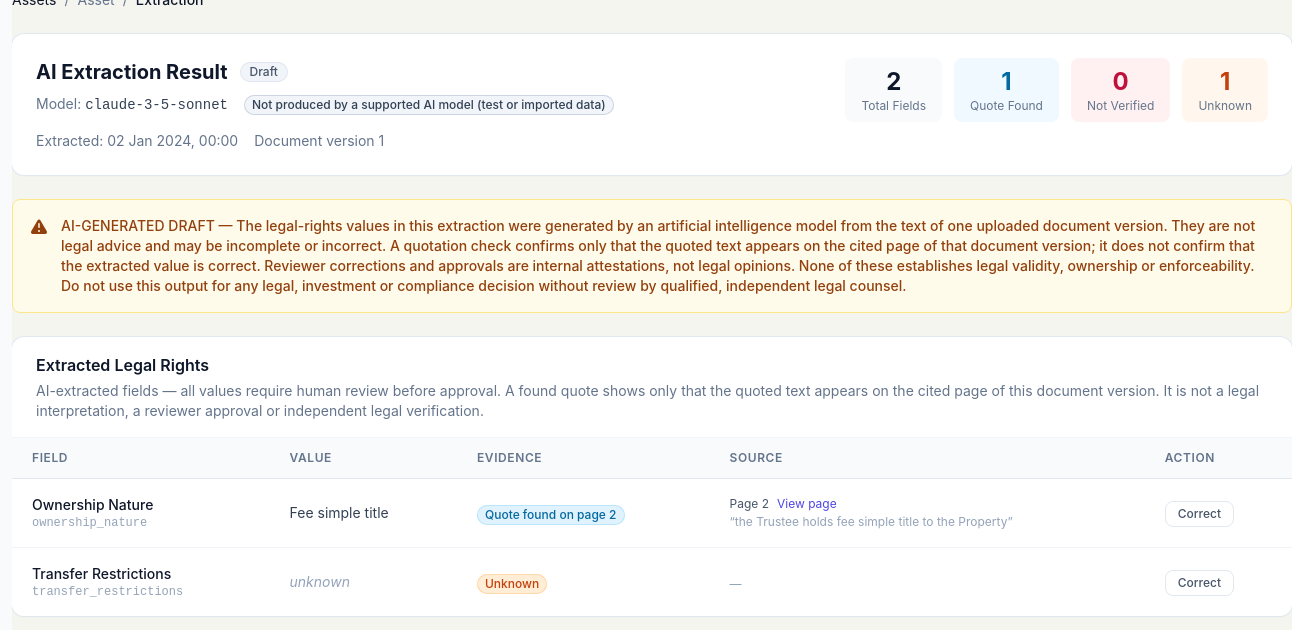
Test case: Mandatory precondition: the state actually shown (issue A) › keeps the claim as shown when the form was opened, even if the page reloads meanwhile
The image size is (1292, 630).
Click the button "Correct" in the row of "Ownership Nature" at (1199, 514), box top-left (1165, 500), bottom-right (1234, 526)
(page scrolled)
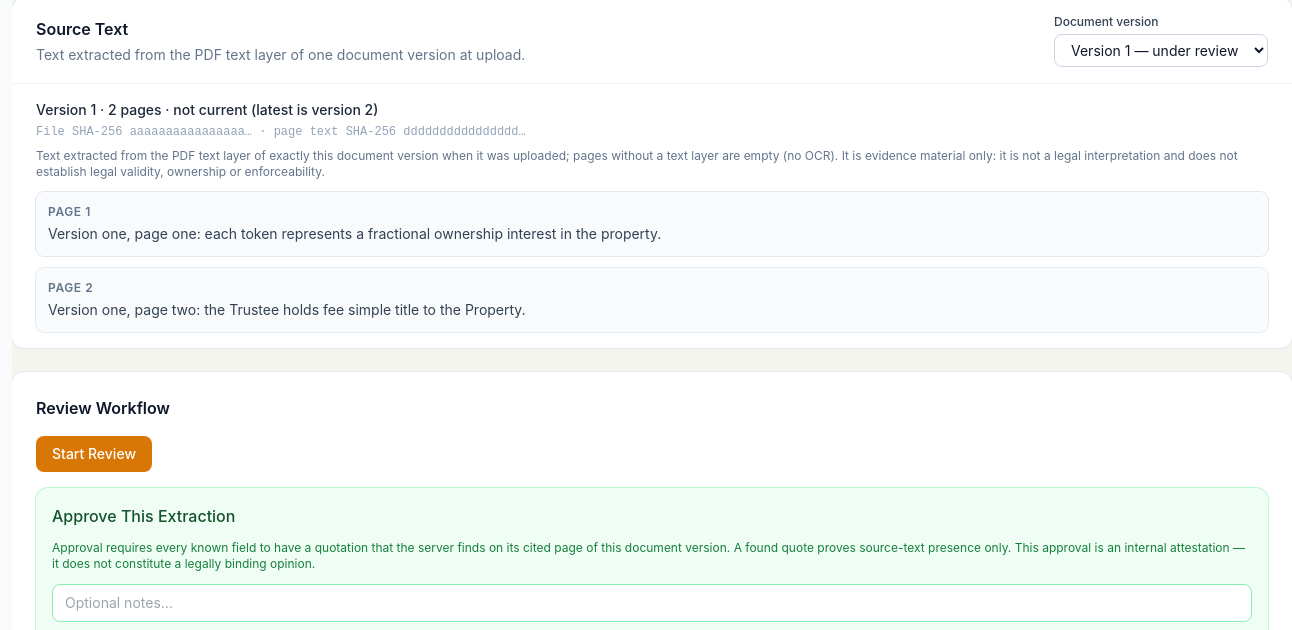
Click the button "Start Review" at (94, 454), box top-left (36, 436), bottom-right (152, 472)
(page scrolled)
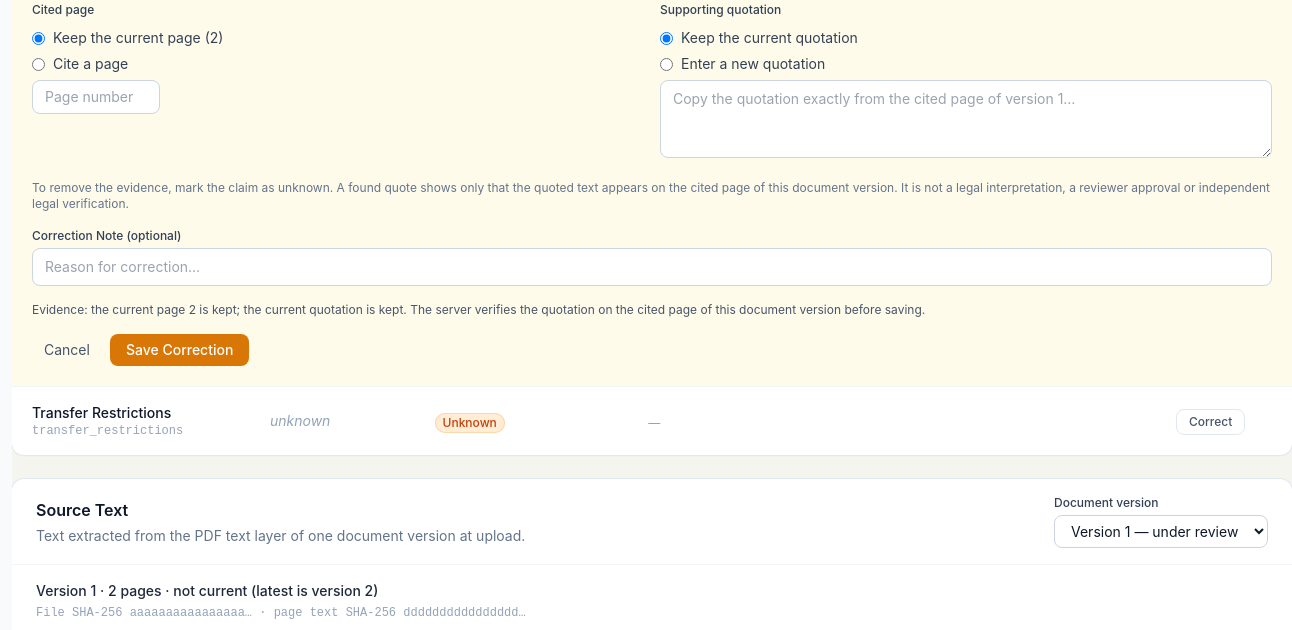
Click the button "Save Correction" at (180, 350), box top-left (110, 334), bottom-right (249, 366)
(page scrolled)
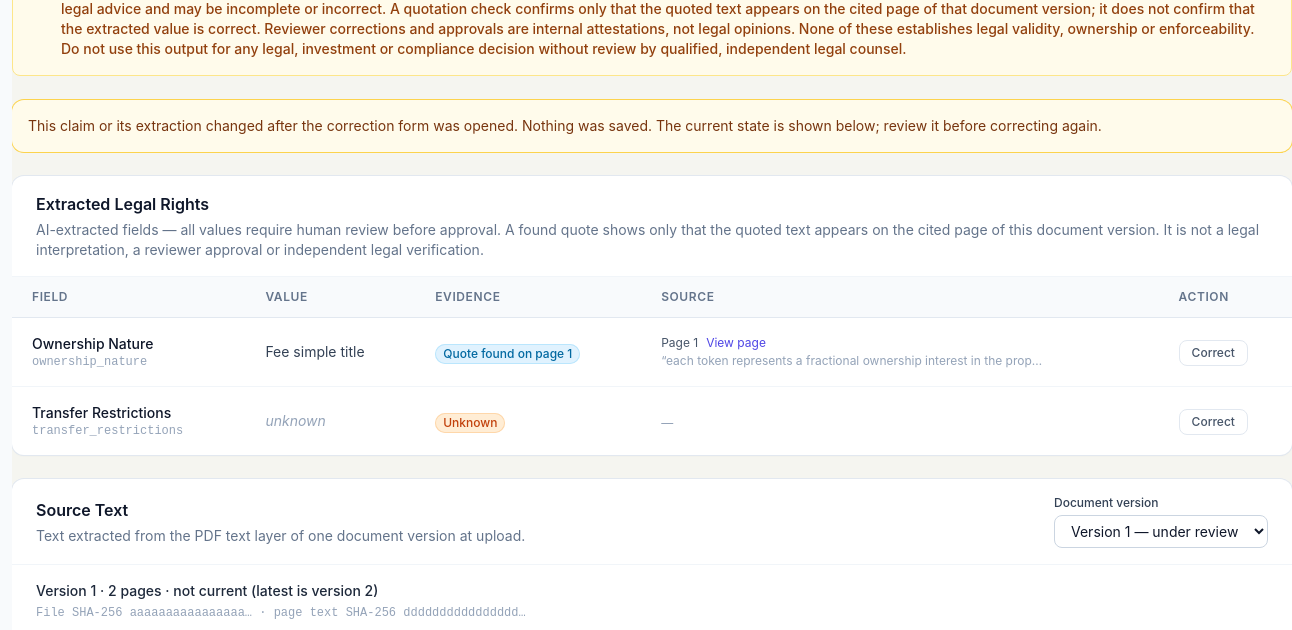
Now the message with test id "correction-conflict" shows "Nothing was saved.", box top-left (28, 117), bottom-right (1102, 134)
